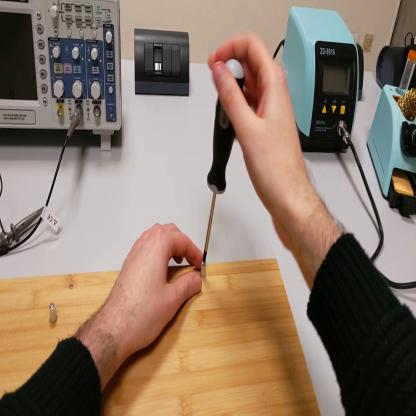hand: (210, 34, 308, 231), (112, 222, 205, 355)
oscilloscope: (1, 1, 125, 153)
oscilloscope probe tip: (2, 205, 46, 256)
screwdriver-: (203, 56, 243, 264)
socket: (377, 46, 416, 92), (357, 46, 366, 101)
welder base: (366, 38, 416, 219)
welder station: (281, 6, 359, 155)
working area: (1, 258, 323, 416)
